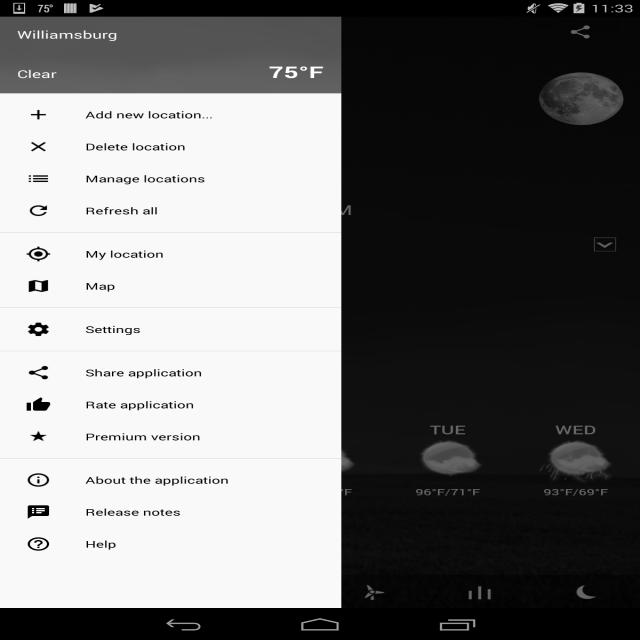CheckedTextView: (26, 162, 316, 195), (26, 194, 316, 227), (26, 388, 316, 421), (26, 98, 316, 130), (26, 130, 316, 162), (26, 238, 316, 270), (26, 270, 316, 302), (26, 314, 316, 346), (26, 356, 316, 388), (26, 420, 316, 452), (26, 464, 316, 496), (26, 496, 316, 528), (26, 528, 316, 560)
ImageButton: (9, 16, 68, 46)
ImageView: (0, 17, 640, 608), (0, 16, 341, 93), (539, 72, 624, 125), (24, 434, 104, 484), (152, 434, 232, 484), (280, 434, 360, 484), (408, 434, 488, 484), (536, 434, 616, 484), (0, 575, 107, 608), (213, 575, 320, 608), (320, 575, 427, 608), (533, 575, 640, 608), (107, 575, 213, 608), (427, 575, 533, 608), (587, 233, 624, 256)
Spinner: (86, 23, 216, 40)
TextView: (11, 72, 122, 157), (11, 238, 308, 256), (11, 219, 272, 238), (11, 49, 286, 67), (17, 27, 324, 42), (11, 179, 178, 200), (10, 200, 176, 219), (192, 200, 352, 219), (17, 67, 234, 81), (0, 393, 117, 412), (234, 61, 324, 83), (85, 23, 198, 40), (551, 16, 610, 46), (128, 77, 169, 112), (11, 157, 68, 179), (174, 105, 228, 126), (249, 105, 302, 126), (297, 421, 342, 438), (555, 421, 596, 438), (172, 421, 212, 438), (46, 421, 81, 438), (430, 421, 465, 438), (31, 486, 61, 498), (159, 486, 189, 498), (287, 486, 317, 498), (415, 486, 445, 498), (543, 486, 573, 498), (67, 486, 96, 498), (195, 486, 224, 498), (323, 486, 352, 498), (451, 486, 480, 498), (579, 486, 608, 498), (233, 105, 244, 126), (60, 486, 66, 498), (188, 486, 194, 498), (316, 486, 322, 498), (444, 486, 450, 498), (572, 486, 578, 498)
